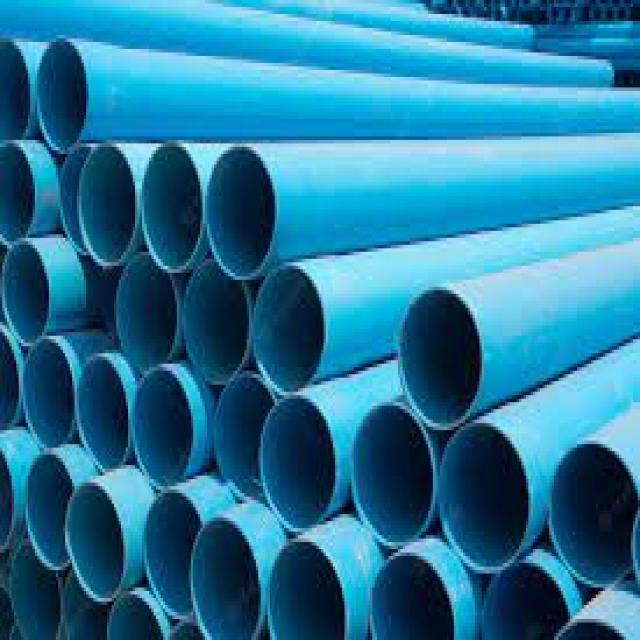pipe: (437, 423, 535, 577), (393, 279, 491, 429), (546, 439, 640, 594), (345, 400, 438, 556), (256, 394, 340, 537), (203, 142, 280, 280), (251, 266, 330, 394), (187, 511, 265, 638), (140, 140, 204, 279), (129, 363, 196, 492), (137, 487, 200, 623), (183, 264, 251, 389), (265, 539, 349, 640), (77, 140, 140, 271), (65, 478, 127, 609), (366, 554, 458, 640), (115, 258, 180, 377), (212, 376, 271, 501), (33, 34, 94, 154), (481, 563, 571, 637), (21, 457, 73, 579), (0, 241, 54, 354), (76, 355, 130, 465), (23, 344, 78, 450), (11, 547, 63, 640), (0, 143, 38, 244), (0, 39, 33, 145), (104, 591, 168, 640)
